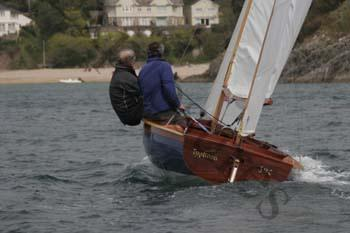Ship: (143, 3, 305, 186)
